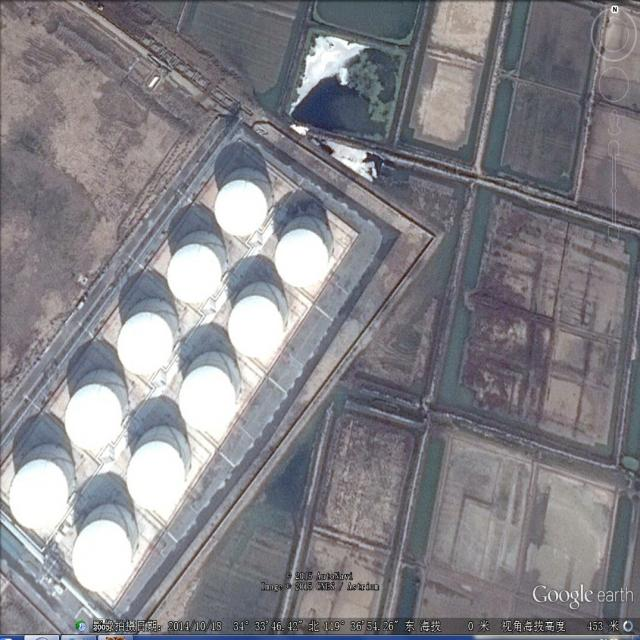oiltank: (8, 438, 76, 533), (126, 424, 195, 515), (71, 505, 137, 595), (63, 366, 127, 455), (177, 353, 242, 434), (224, 282, 290, 361), (165, 230, 231, 307), (118, 297, 180, 378), (274, 216, 337, 289), (213, 164, 275, 237)
